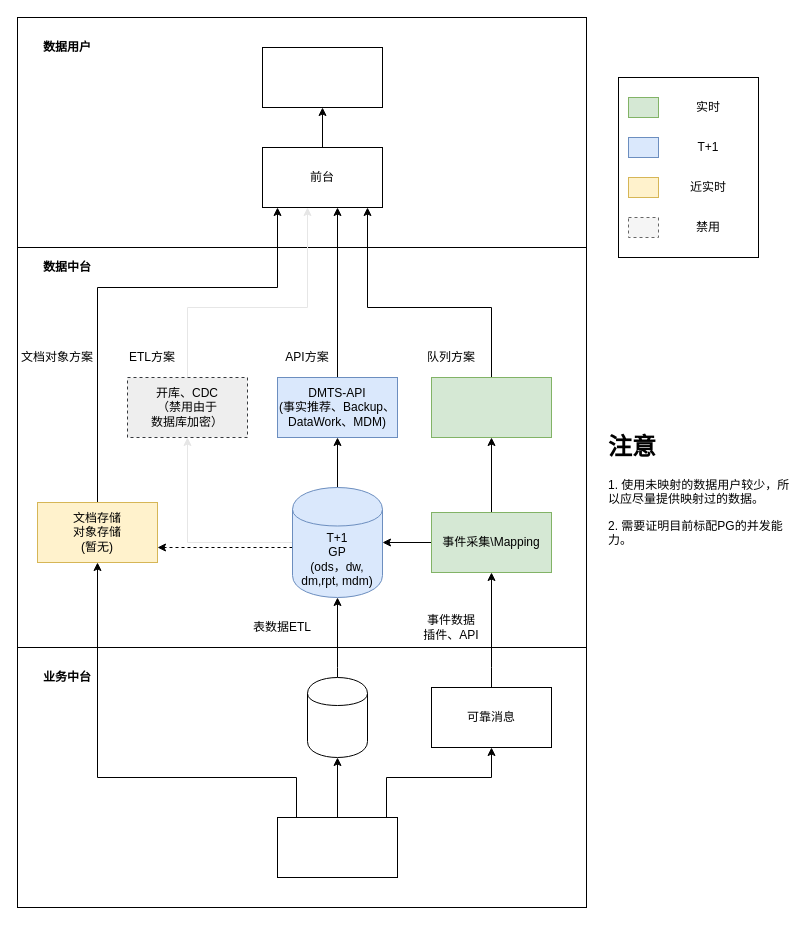
Some shapes in this 811 by 925 pixel diagram are drawn without their labels. Each missing label, with the centre of its shape:
Kafka: point 491,407
业务库: point 337,717
业务系统: point 337,847
前端: point 322,77
